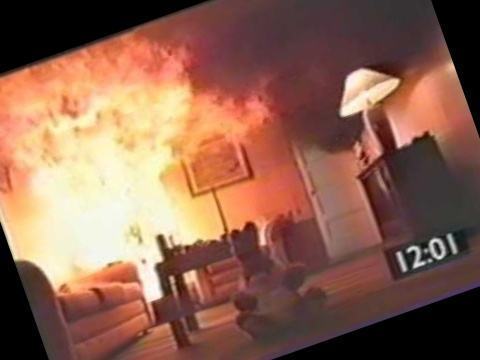fire: (0, 28, 218, 286)
smoke: (181, 0, 438, 126)
